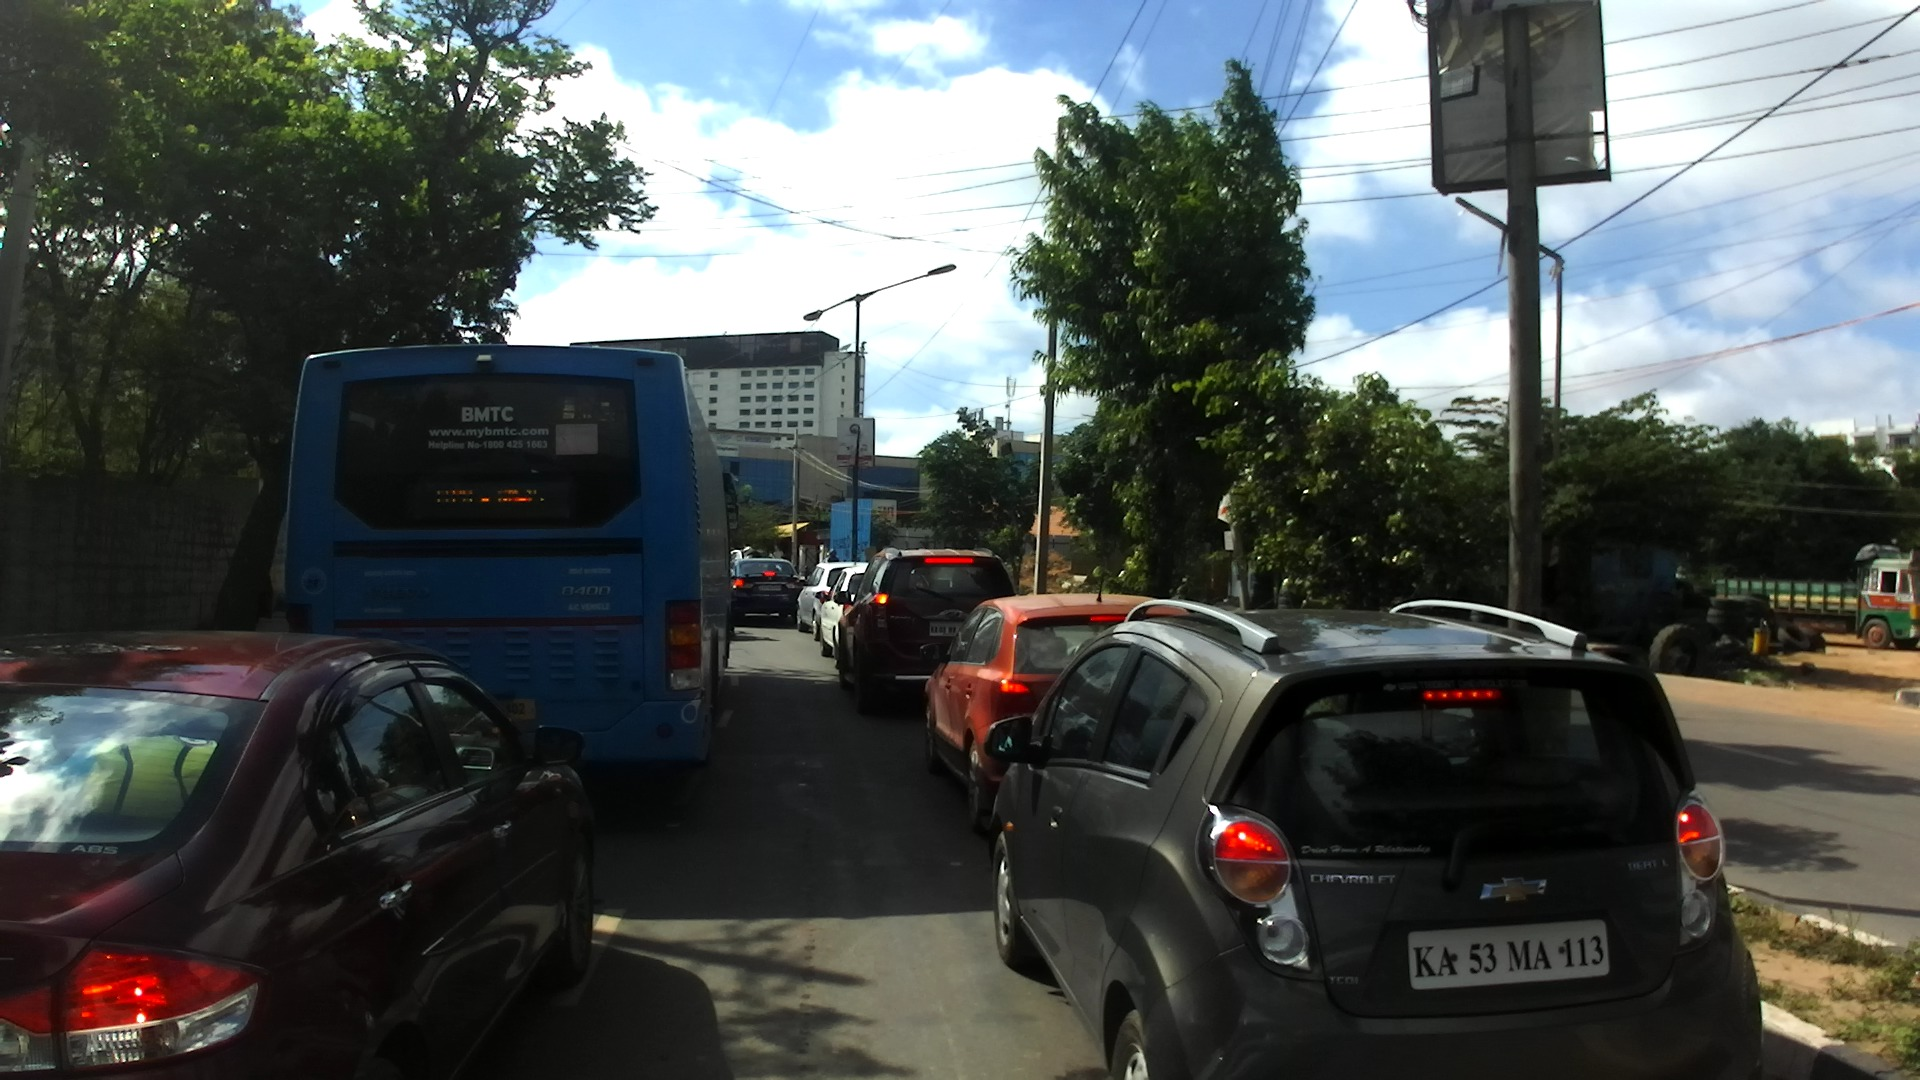bus: (282, 341, 738, 775)
car: (990, 593, 1763, 1078), (0, 630, 595, 1076), (921, 580, 1155, 832), (835, 547, 1015, 713), (795, 559, 865, 639), (729, 557, 806, 624), (816, 568, 869, 659), (730, 547, 772, 565)
rider: (742, 546, 761, 559), (824, 548, 839, 562)
truck: (1712, 544, 1919, 653)
